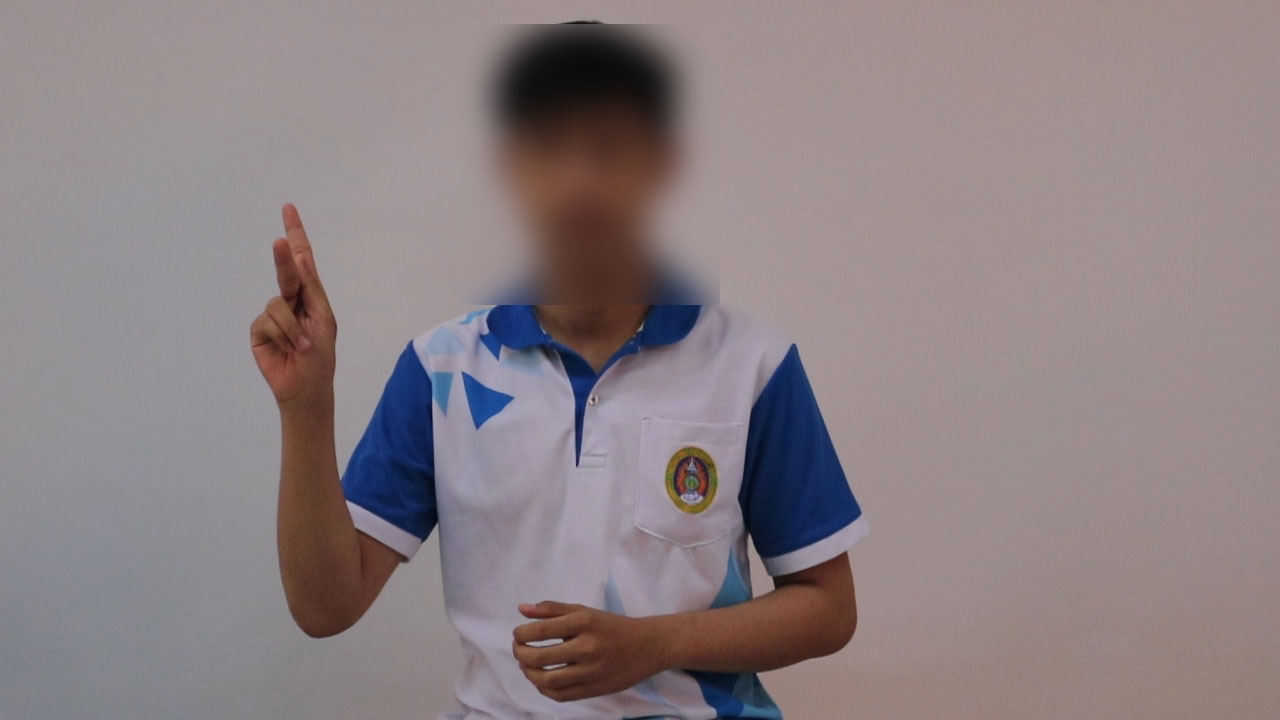ko: (208, 186, 396, 424)
